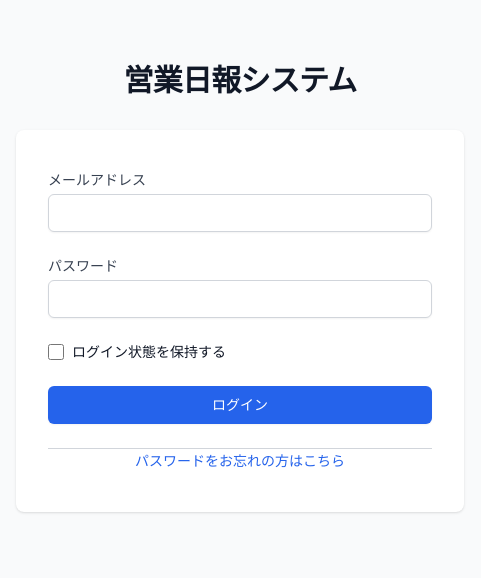
Test: LoginPage › 異常系: ネットワークエラー時にエラーメッセージが表示される
Type "yamada@example.com" into the field labelled "メールアドレス". click: (240, 213)
box: left=48, top=194, right=432, bottom=232
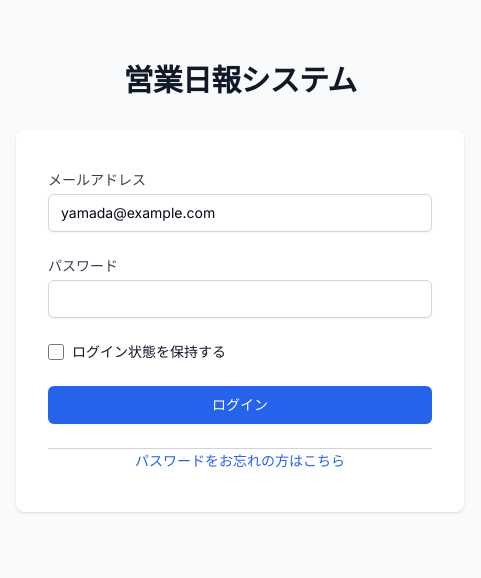
Type "password123" into the password field labelled "パスワード". click: (240, 299)
box: left=48, top=280, right=432, bottom=318
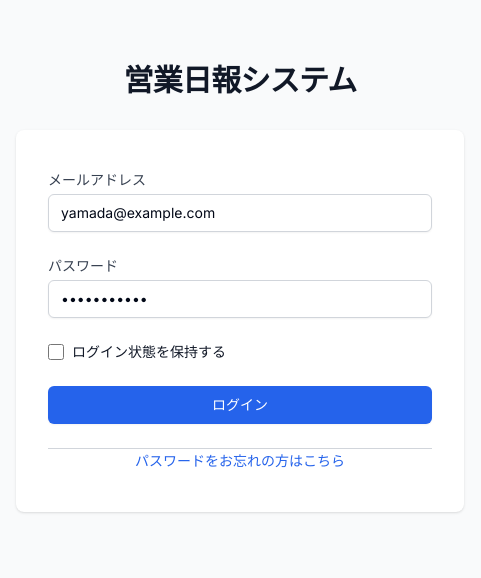
Click the button "ログイン". click: (240, 405)
box: left=48, top=386, right=432, bottom=424
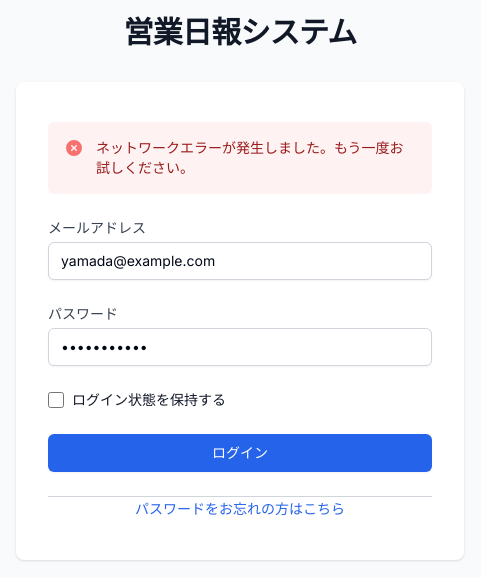
Result: the text "ネットワークエラーが発生しました。もう一度お試しください。" is shown at left=96, top=138, right=416, bottom=178
